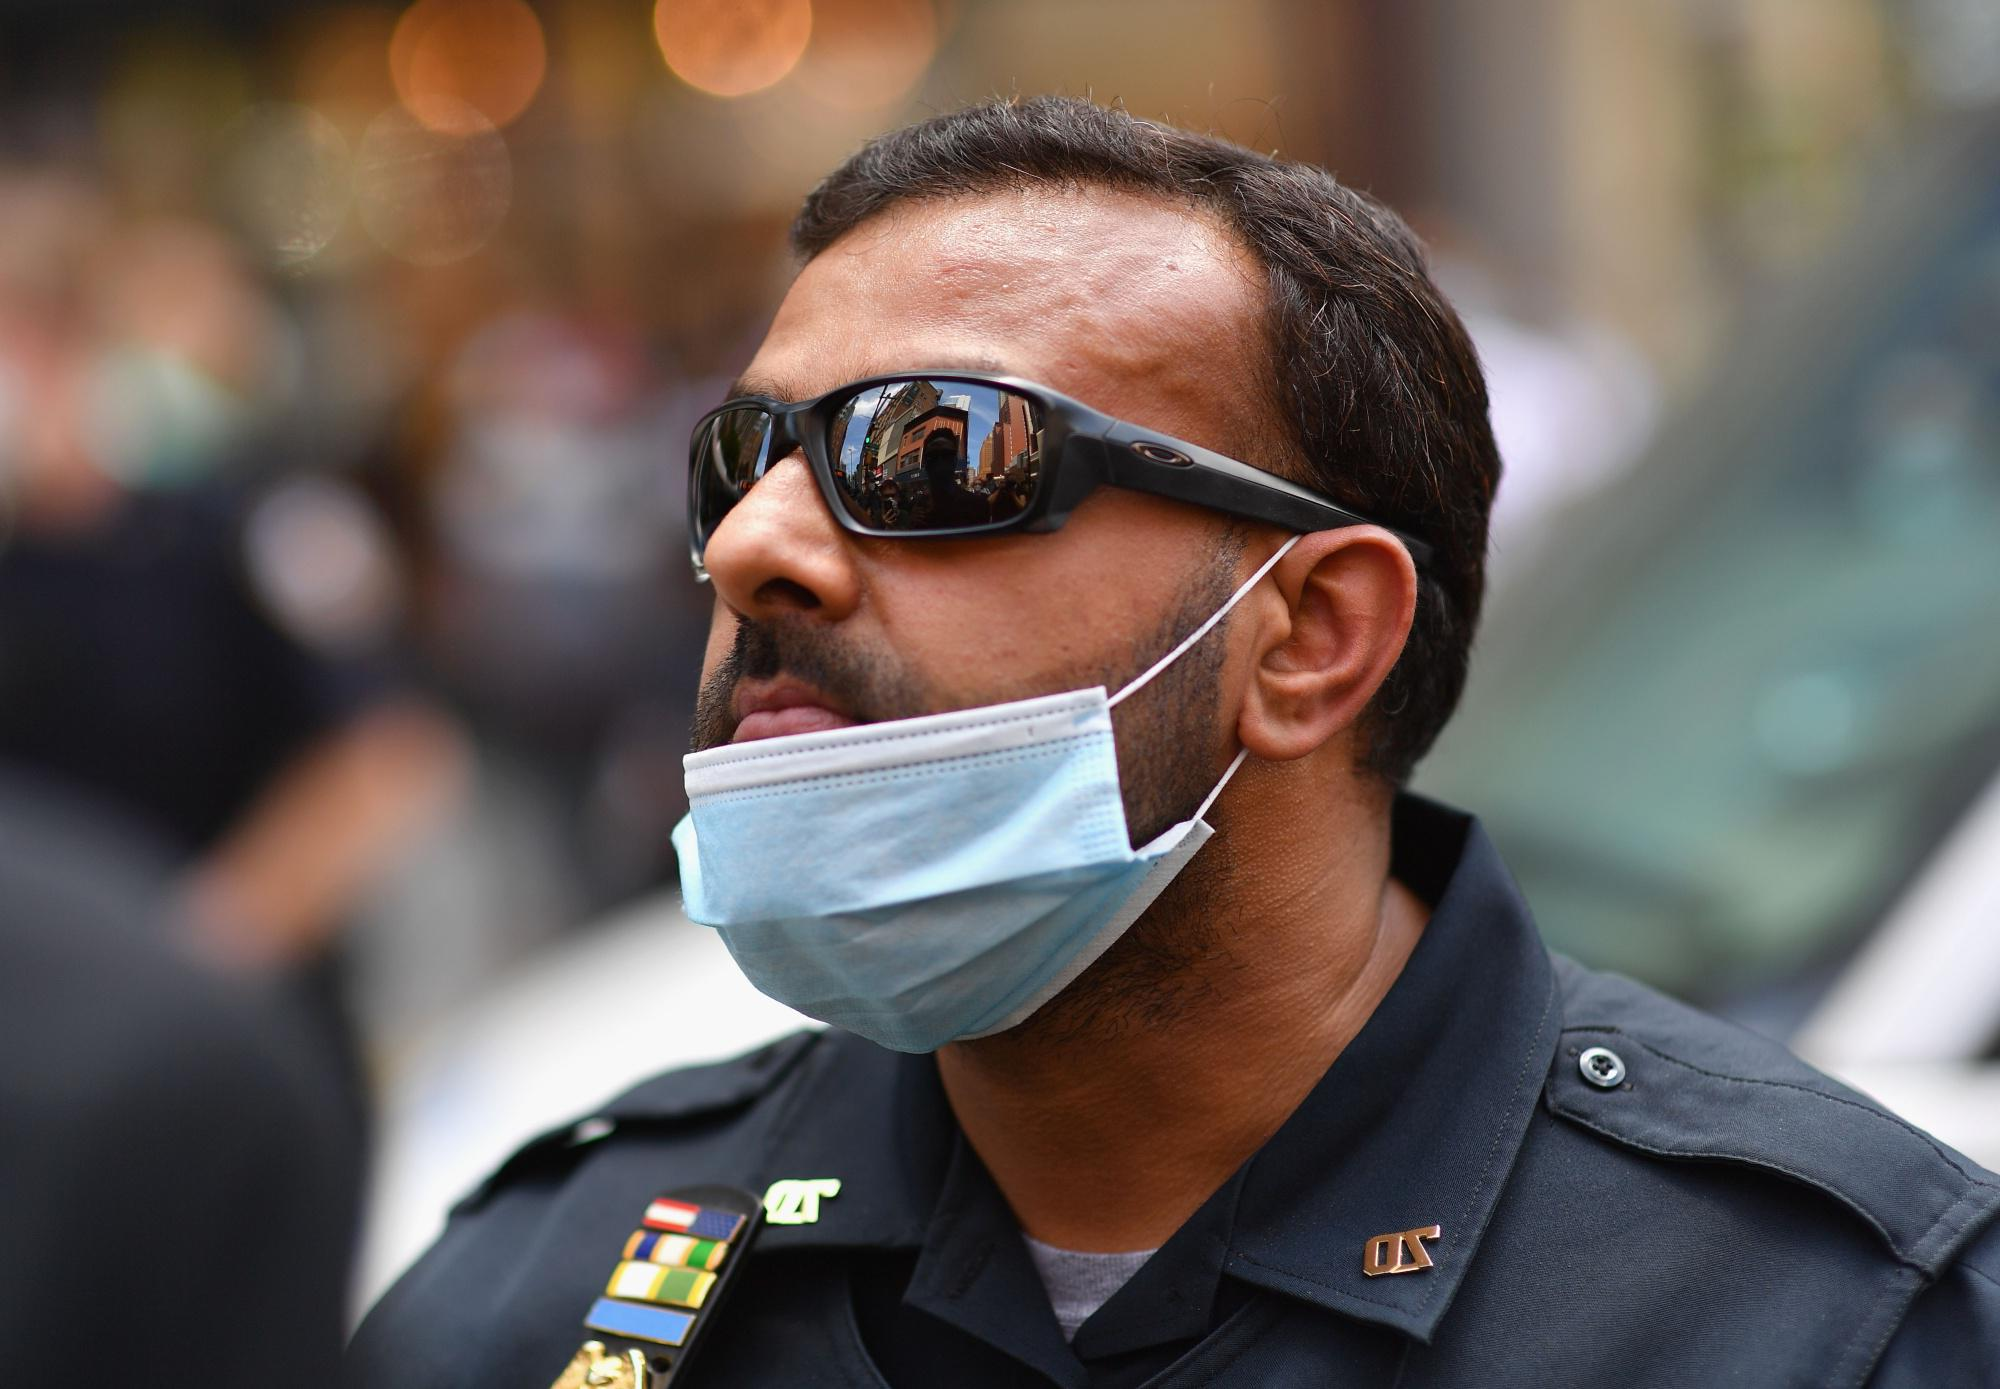mask_weared_incorrect: (663, 319, 1224, 1036)
